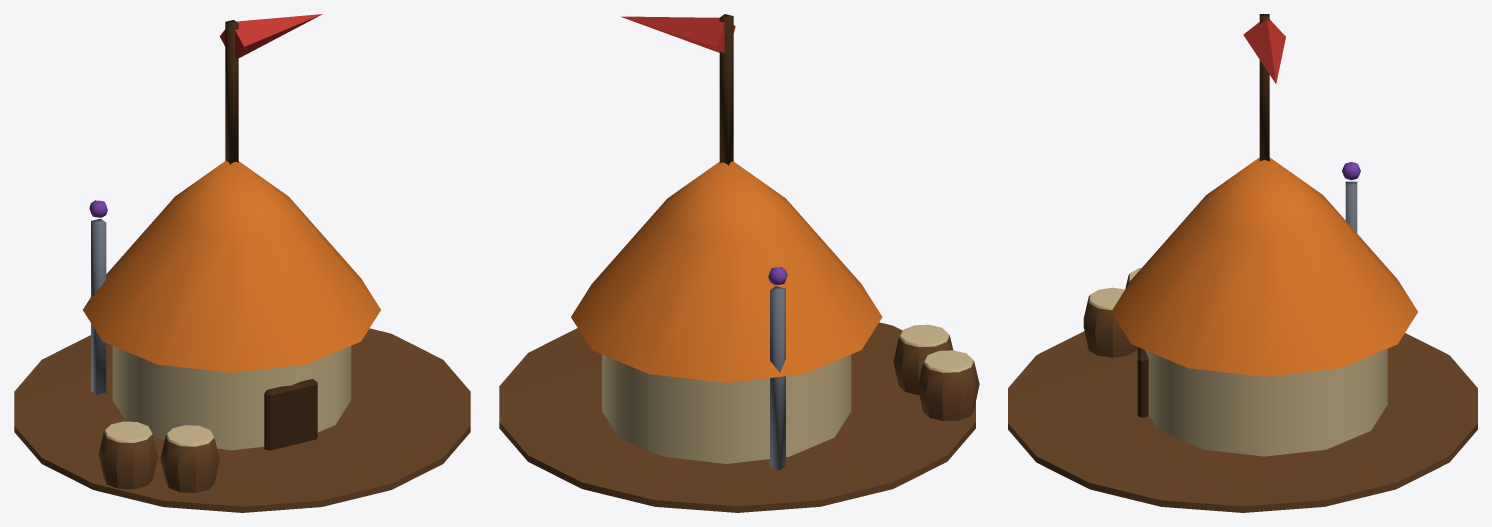
3 renders of one model, left to right at view 1: azimuth 30°, elevation 25°; view 2: azimuth 150°, elevation 25°; view 3: azimuth 270°, elevation 25°, orthographic. The views are drawn at different scales.
Parts seen in each view (by area): view 1: vila_0_base; view 2: vila_0_base; view 3: vila_0_base.
Part boxes in pixels (x1,y1,x2,y2): vila_0_base: (14,14,470,512); vila_0_base: (499,14,979,512); vila_0_base: (1008,14,1477,512).
Bounding box in the file's own units: 1.32 × 1.21 × 1.3.
